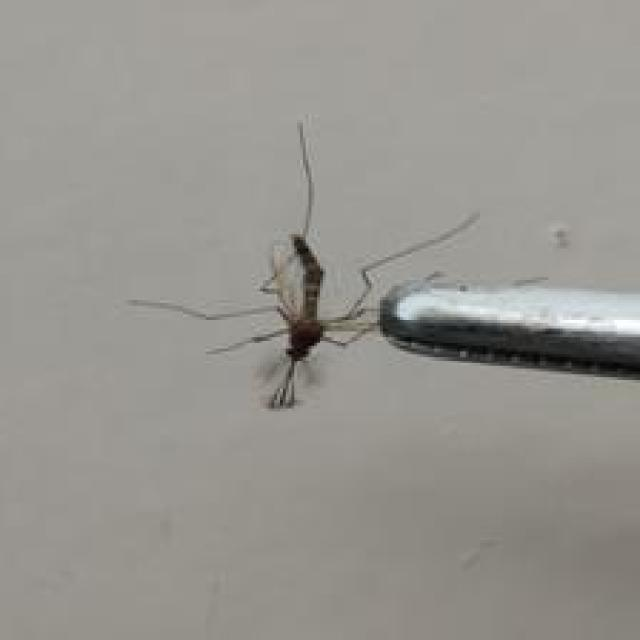Culex: (127, 119, 482, 410)
